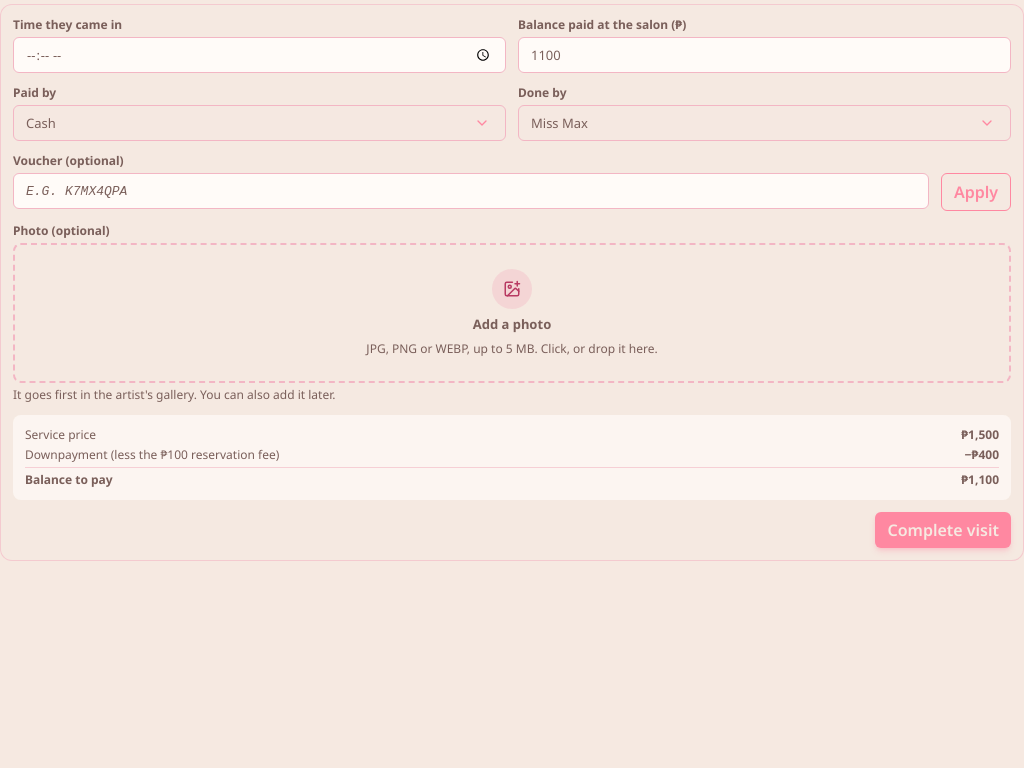
the Complete visit form › offers the six ways to pay and starts on the booked artist
Expected: the button with aria-label "Done by" reads "Miss Max", [518,105,1011,141]
Click the button with aria-label "Paid by" at point(41, 123), box [13,105,506,141]
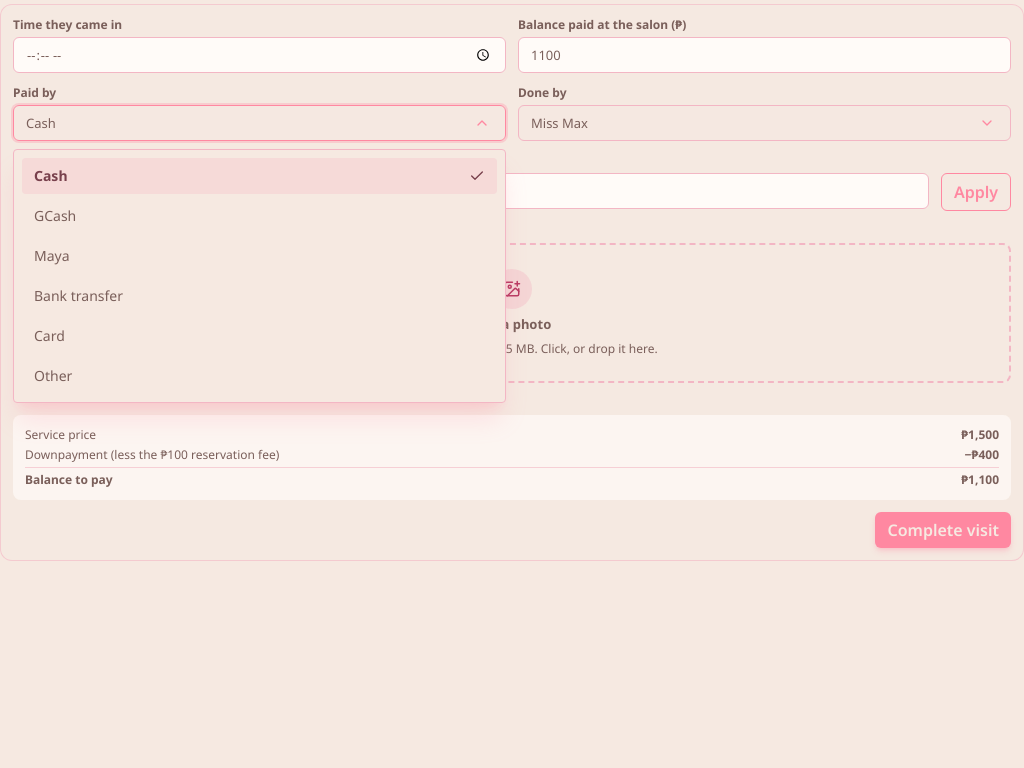
Now the options read "Cash", "GCash", "Maya", "Bank transfer", "Card", "Other", in this order, box [22,158,497,194]; [22,198,497,234]; [22,238,497,274]; [22,278,497,314]; [22,318,497,354]; [22,358,497,394]
